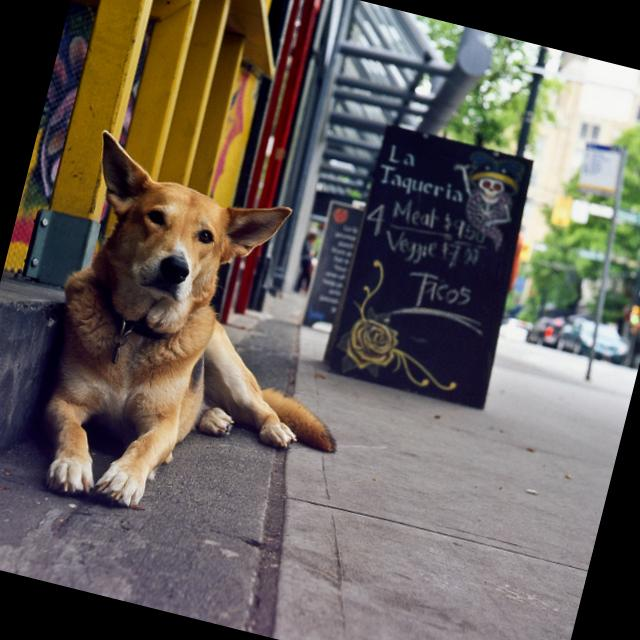Vehicle: (556, 313, 634, 367), (524, 312, 564, 349)
